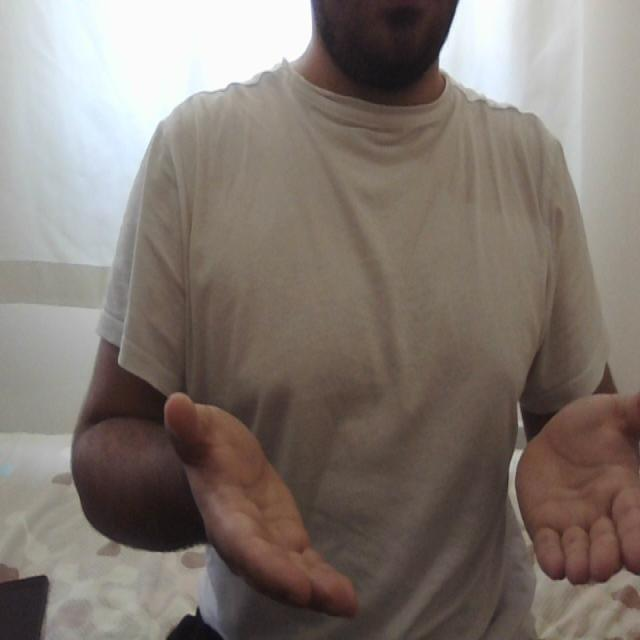Evet: (162, 383, 640, 628)
